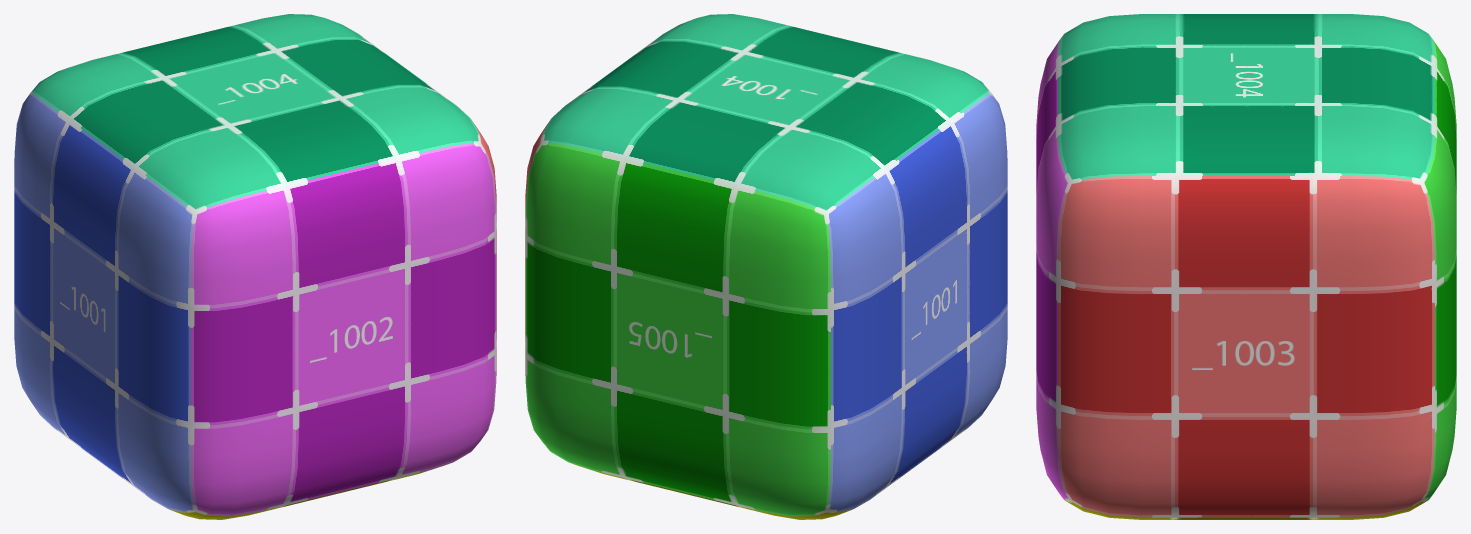
Rendered from UDIM_Cube.fbx.
3 views of the same model, side by side, from view 1: azimuth 30°, elevation 25°; view 2: azimuth 150°, elevation 25°; view 3: azimuth 270°, elevation 25° (orthographic). The views are drawn at different scales.
Visible parts, largest first — view 1: UDIM_Cube; view 2: UDIM_Cube; view 3: UDIM_Cube.
Boxes of the visible parts, x1,y1,x2,y2 form: UDIM_Cube: [14, 14, 496, 519]; UDIM_Cube: [525, 14, 1007, 519]; UDIM_Cube: [1036, 14, 1456, 519].
Bounding box in the file's own units: 1 × 1 × 1.
